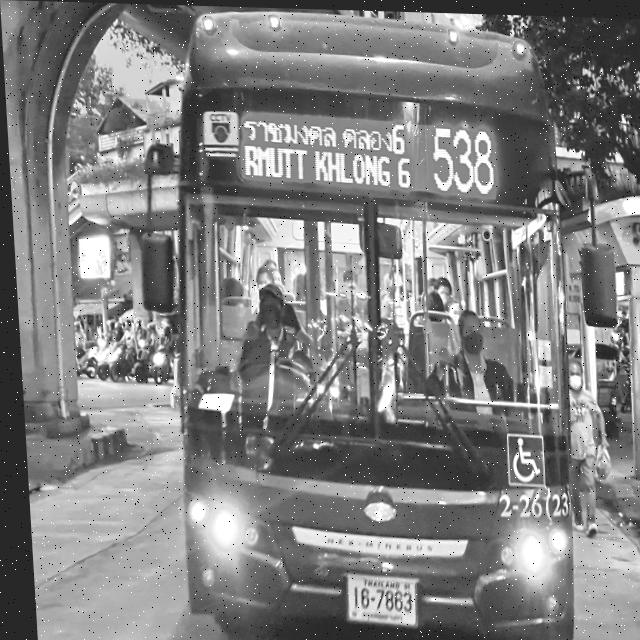Bus Line Number: (423, 112, 500, 204)
Bus Side Number: (486, 482, 568, 521)
Destination Sign: (227, 93, 422, 199)
TSB-Bus: (140, 3, 588, 640)
